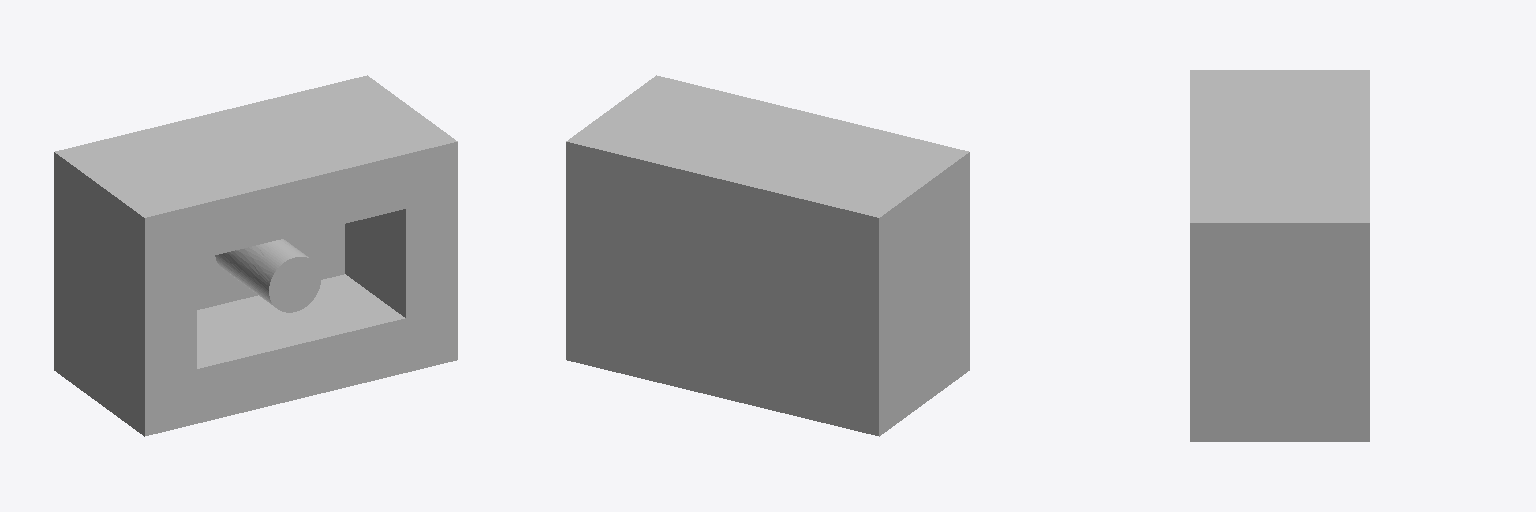
Rendered from tank47.obj.
3 views of the same model, side by side, from view 1: azimuth 30°, elevation 25°; view 2: azimuth 150°, elevation 25°; view 3: azimuth 270°, elevation 25° (orthographic).
Bounding box in the file's own units: 3 × 2 × 1.5.